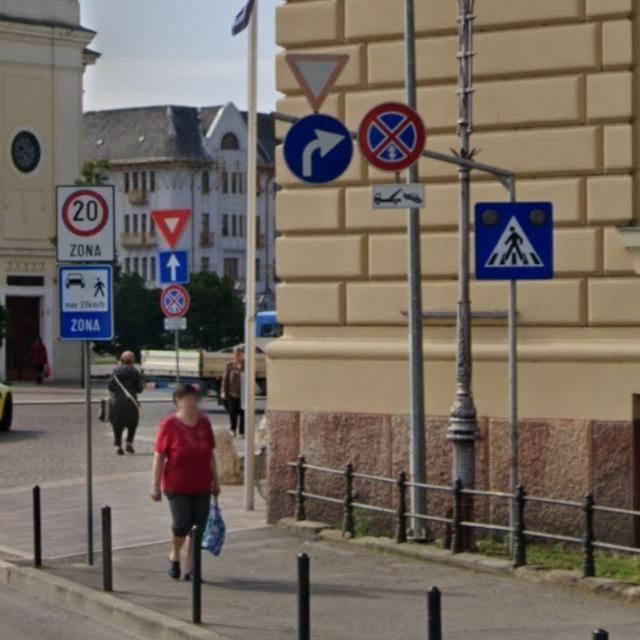forb_speed_over_20: (62, 189, 109, 237)
forb_waiting: (359, 102, 426, 173), (160, 285, 189, 318)
info_crosswalk: (475, 202, 554, 280)
prio_give_way: (283, 51, 352, 113), (150, 207, 193, 250)
